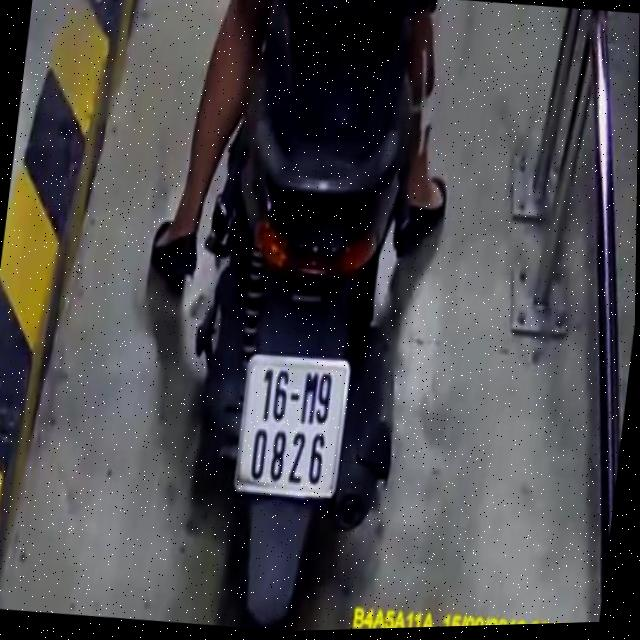motorcycle: (154, 52, 449, 635)
plate: (229, 345, 355, 506)
